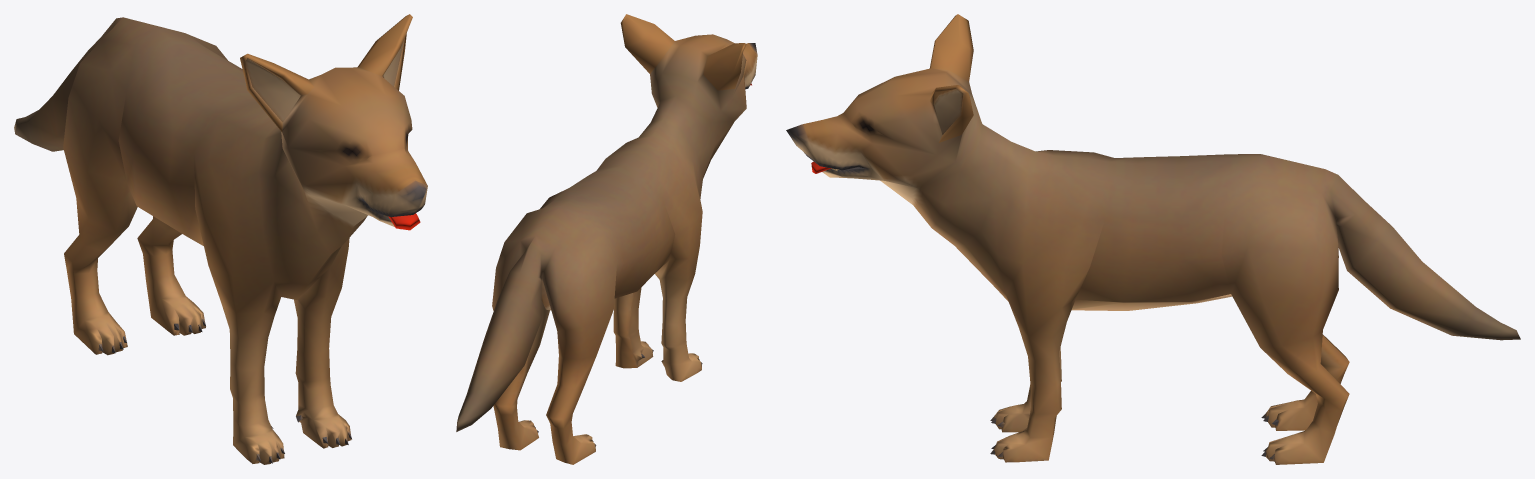
File: Coyote_Pup.fbx
3 views of the same model, side by side, from view 1: azimuth 30°, elevation 25°; view 2: azimuth 150°, elevation 25°; view 3: azimuth 270°, elevation 25° (orthographic). The views are drawn at different scales.
Parts seen in each view (by area): view 1: Coyote_Pup; view 2: Coyote_Pup; view 3: Coyote_Pup.
Part boxes in pixels (x1,y1,x2,y2): Coyote_Pup: (14, 14, 427, 464); Coyote_Pup: (456, 14, 757, 464); Coyote_Pup: (786, 14, 1520, 464).
Bounding box in the file's own units: 0.0743 × 0.1873 × 0.3187.
Materials: 1 (1 with a texture image).
